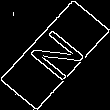N_SE: (21, 23, 89, 87)
